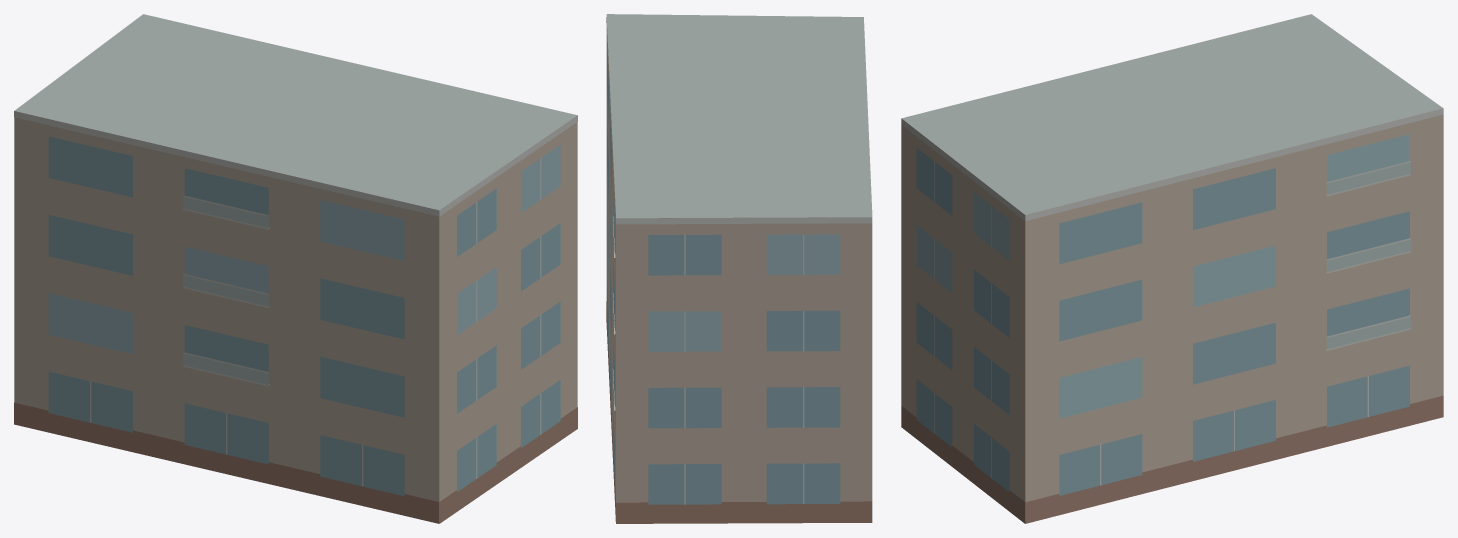
File: survey-upis-32759790.glb
3 renders of one model, left to right at view 1: azimuth 30°, elevation 25°; view 2: azimuth 150°, elevation 25°; view 3: azimuth 270°, elevation 25°, orthographic. The views are drawn at different scales.
Parts seen in each view (by area): view 1: survey-upis-32759790.tmp; view 2: survey-upis-32759790.tmp; view 3: survey-upis-32759790.tmp.
Part boxes in pixels (x1,y1,x2,y2): survey-upis-32759790.tmp: [14, 14, 577, 523]; survey-upis-32759790.tmp: [606, 14, 872, 523]; survey-upis-32759790.tmp: [901, 14, 1443, 523].
Size of the model in its own units: 17.04 by 12.2 by 19.42.
